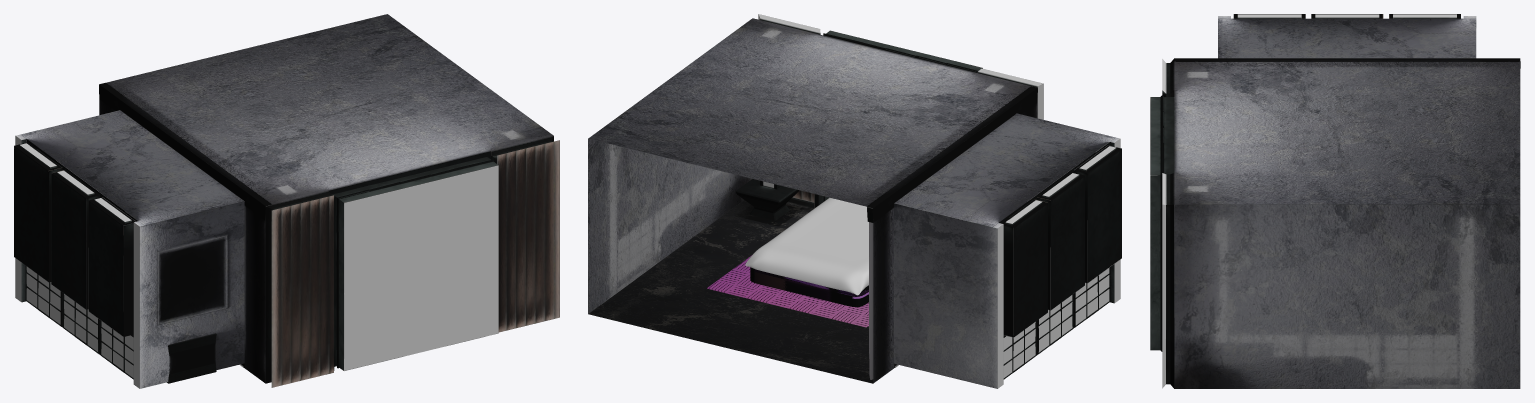
Rendered from Modern Bedroom.fbx.
The picture shows the model from 3 angles, left to right: view 1: azimuth 30°, elevation 25°; view 2: azimuth 150°, elevation 25°; view 3: azimuth 270°, elevation 25°; orthographic projection. The views are drawn at different scales.
Parts seen in each view (by area): view 1: ModernBedroom; view 2: ModernBedroom; view 3: ModernBedroom.
Boxes of the visible parts, x1,y1,x2,y2 form: ModernBedroom: (14, 14, 559, 388); ModernBedroom: (588, 14, 1121, 388); ModernBedroom: (1150, 14, 1520, 388).
Size of the model in its own units: 2370 by 1006 by 1819.
